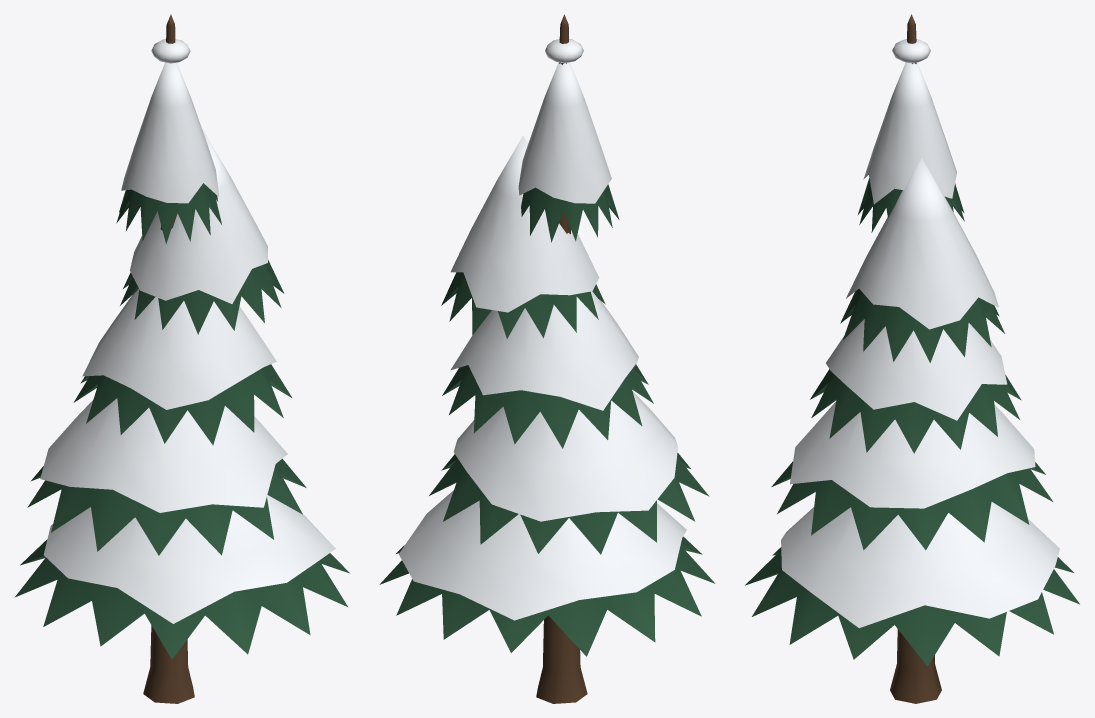
The model's file is decor_conifere_hiver_3.glb.
3 renders of one model, left to right at view 1: azimuth 30°, elevation 25°; view 2: azimuth 150°, elevation 25°; view 3: azimuth 270°, elevation 25°, orthographic.
Visible parts, largest first — view 1: neige, feuillage, tronc; view 2: neige, feuillage, tronc; view 3: neige, feuillage, tronc.
Part boxes in pixels (x1,y1,x2,y2): neige: (40, 39, 335, 623); feuillage: (14, 183, 349, 659); tronc: (143, 14, 194, 703); neige: (399, 39, 686, 620); feuillage: (379, 184, 715, 656); tronc: (536, 14, 587, 703); neige: (781, 39, 1059, 628); feuillage: (745, 178, 1079, 666); tronc: (890, 14, 941, 703).
Size of the model in its own units: 0.3446 by 0.76 by 0.3415.
